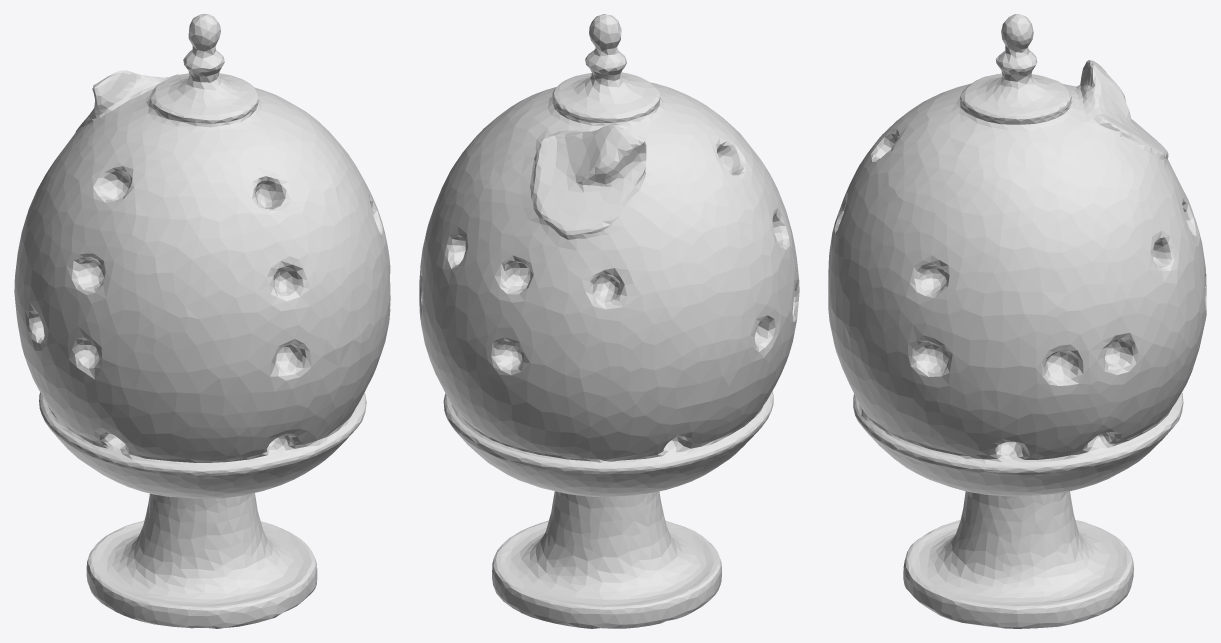
File: censer_bronze_r2.glb
3 views of the same model, side by side, from view 1: azimuth 30°, elevation 25°; view 2: azimuth 150°, elevation 25°; view 3: azimuth 270°, elevation 25° (orthographic).
Visible parts, largest first — view 1: Low; view 2: Low; view 3: Low.
Boxes of the visible parts, <box> form: Low: <box>14,14,390,628</box>; Low: <box>419,14,799,628</box>; Low: <box>828,14,1206,628</box>.
Size of the model in its own units: 1.2 by 1.99 by 1.2.
Materials: 1 (1 with a texture image).
